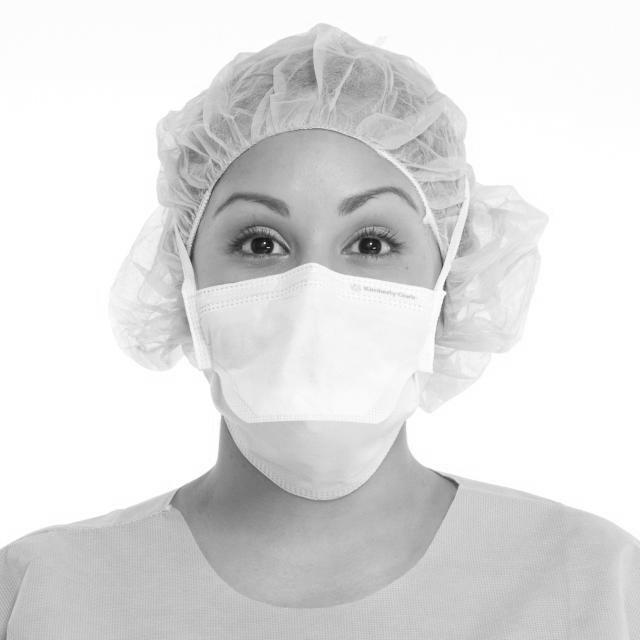fake: (140, 262, 502, 510)
real: (195, 123, 446, 508)
